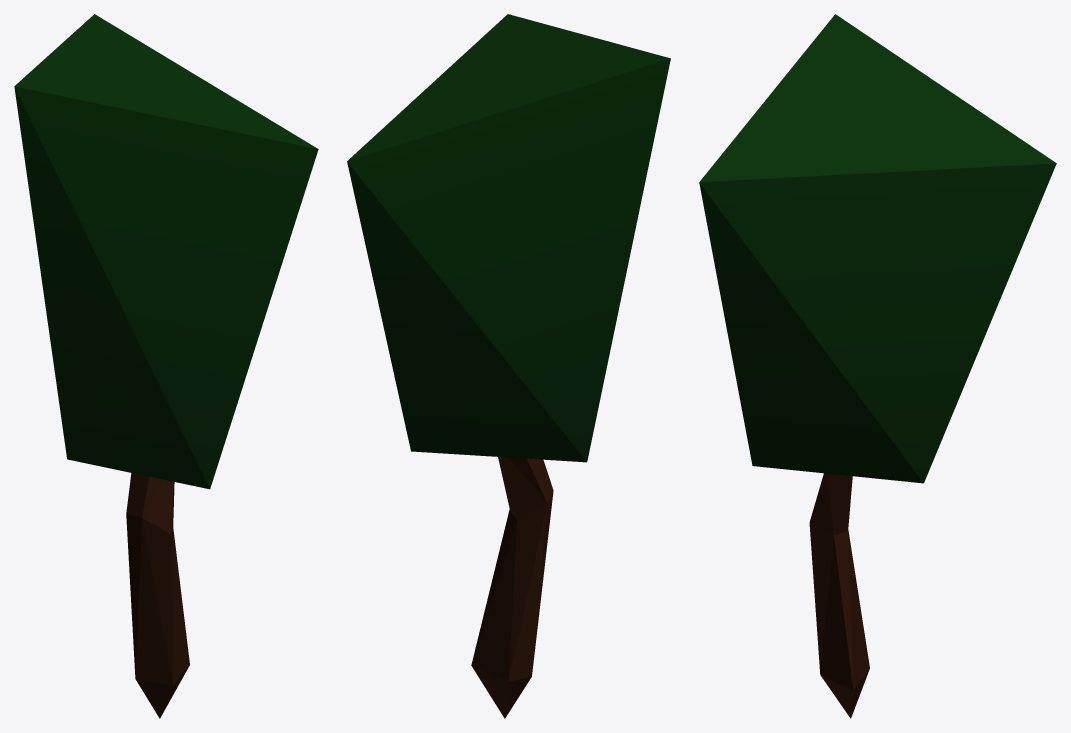
The model's file is c_tree_generic_ad.fbx.
3 renders of one model, left to right at view 1: azimuth 30°, elevation 25°; view 2: azimuth 150°, elevation 25°; view 3: azimuth 270°, elevation 25°, orthographic. The views are drawn at different scales.
Parts seen in each view (by area): view 1: c_tree_generic_ad; view 2: c_tree_generic_ad; view 3: c_tree_generic_ad.
Boxes of the visible parts, left/top/right/bottom form: c_tree_generic_ad: left=14, top=14, right=318, bottom=718; c_tree_generic_ad: left=347, top=14, right=670, bottom=718; c_tree_generic_ad: left=699, top=14, right=1056, bottom=718.
Size of the model in its own units: 2.38 by 6.64 by 3.39.
